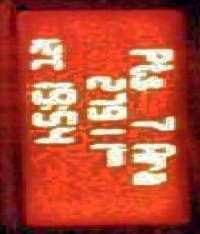1: (83, 126, 125, 135), (27, 80, 76, 87), (83, 141, 125, 147), (25, 36, 63, 42)
2: (83, 75, 125, 91), (25, 42, 63, 52)
4: (31, 126, 76, 142)
5: (29, 110, 76, 126)
7: (129, 113, 178, 131), (85, 91, 127, 103)
9: (29, 87, 76, 103), (85, 105, 127, 120)
X: (127, 46, 173, 62), (129, 142, 176, 156), (125, 75, 165, 90), (127, 62, 173, 75), (129, 170, 169, 184), (129, 156, 167, 170), (27, 57, 62, 70), (103, 156, 123, 166), (102, 147, 127, 154), (36, 103, 69, 108)
